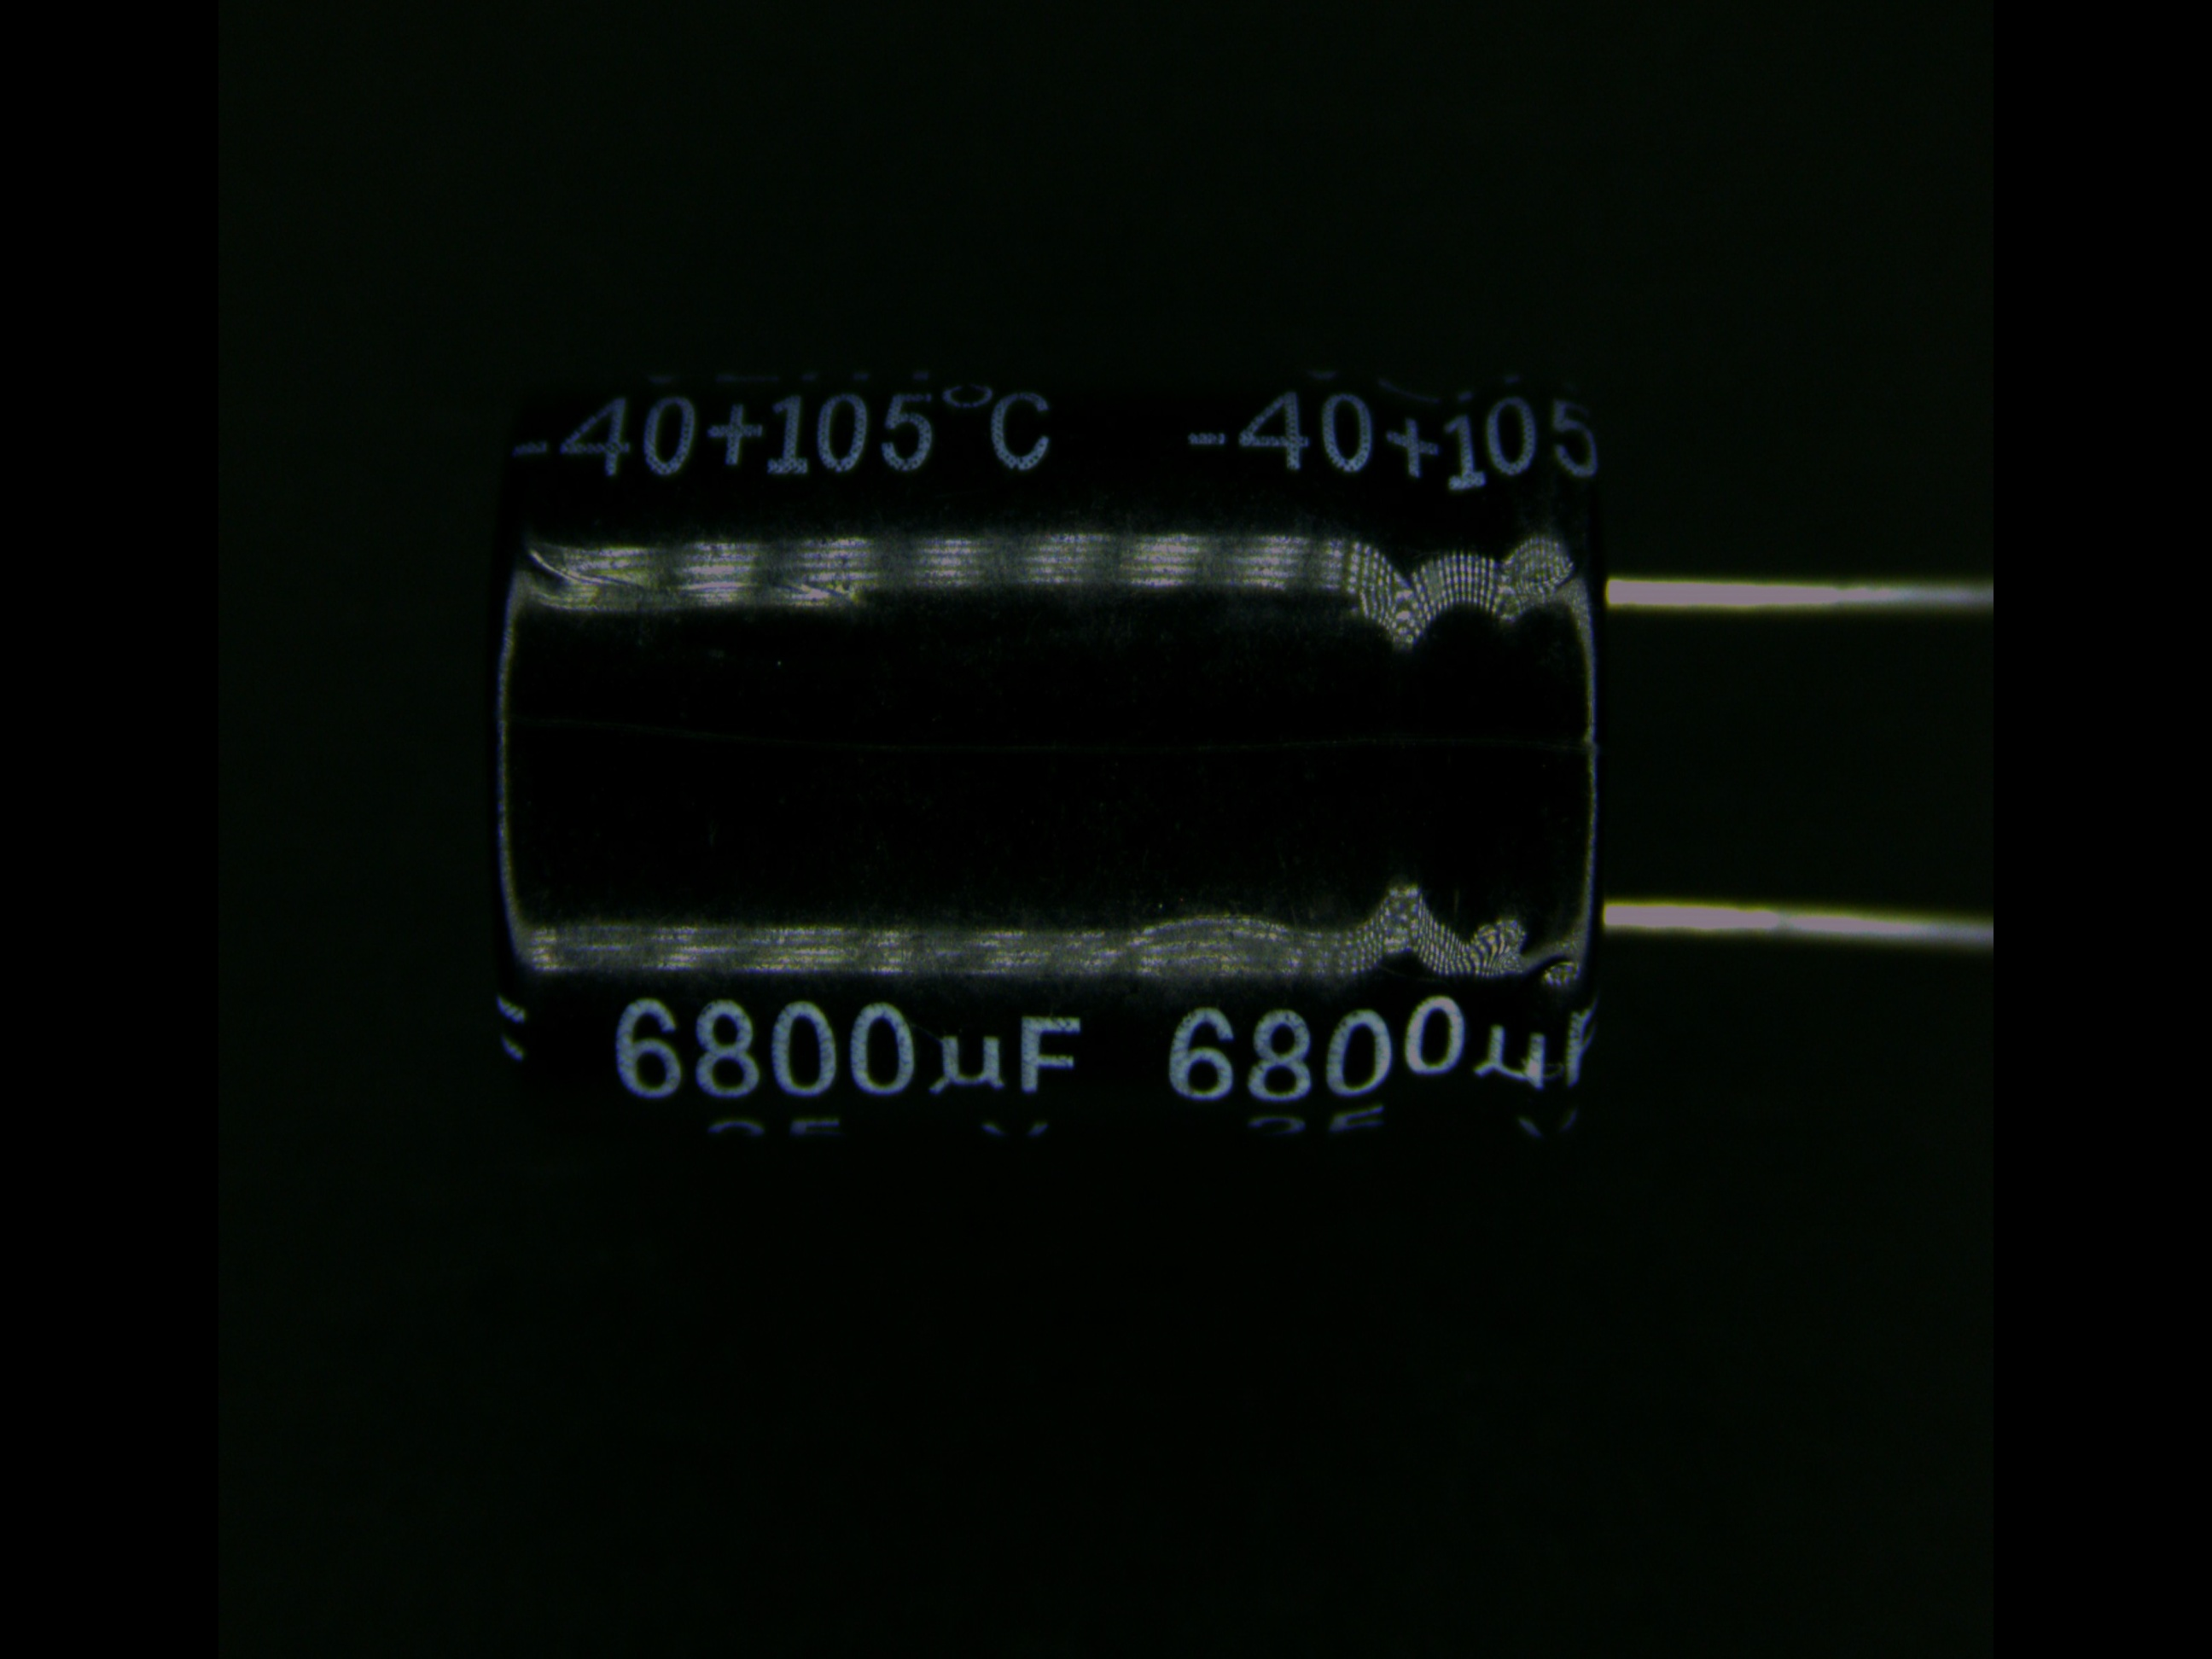c3: (475, 366, 1857, 1154)
